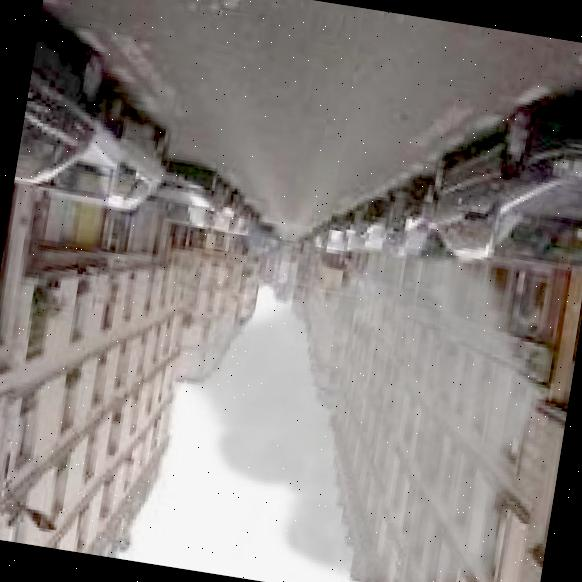smoke: (141, 199, 565, 582)
